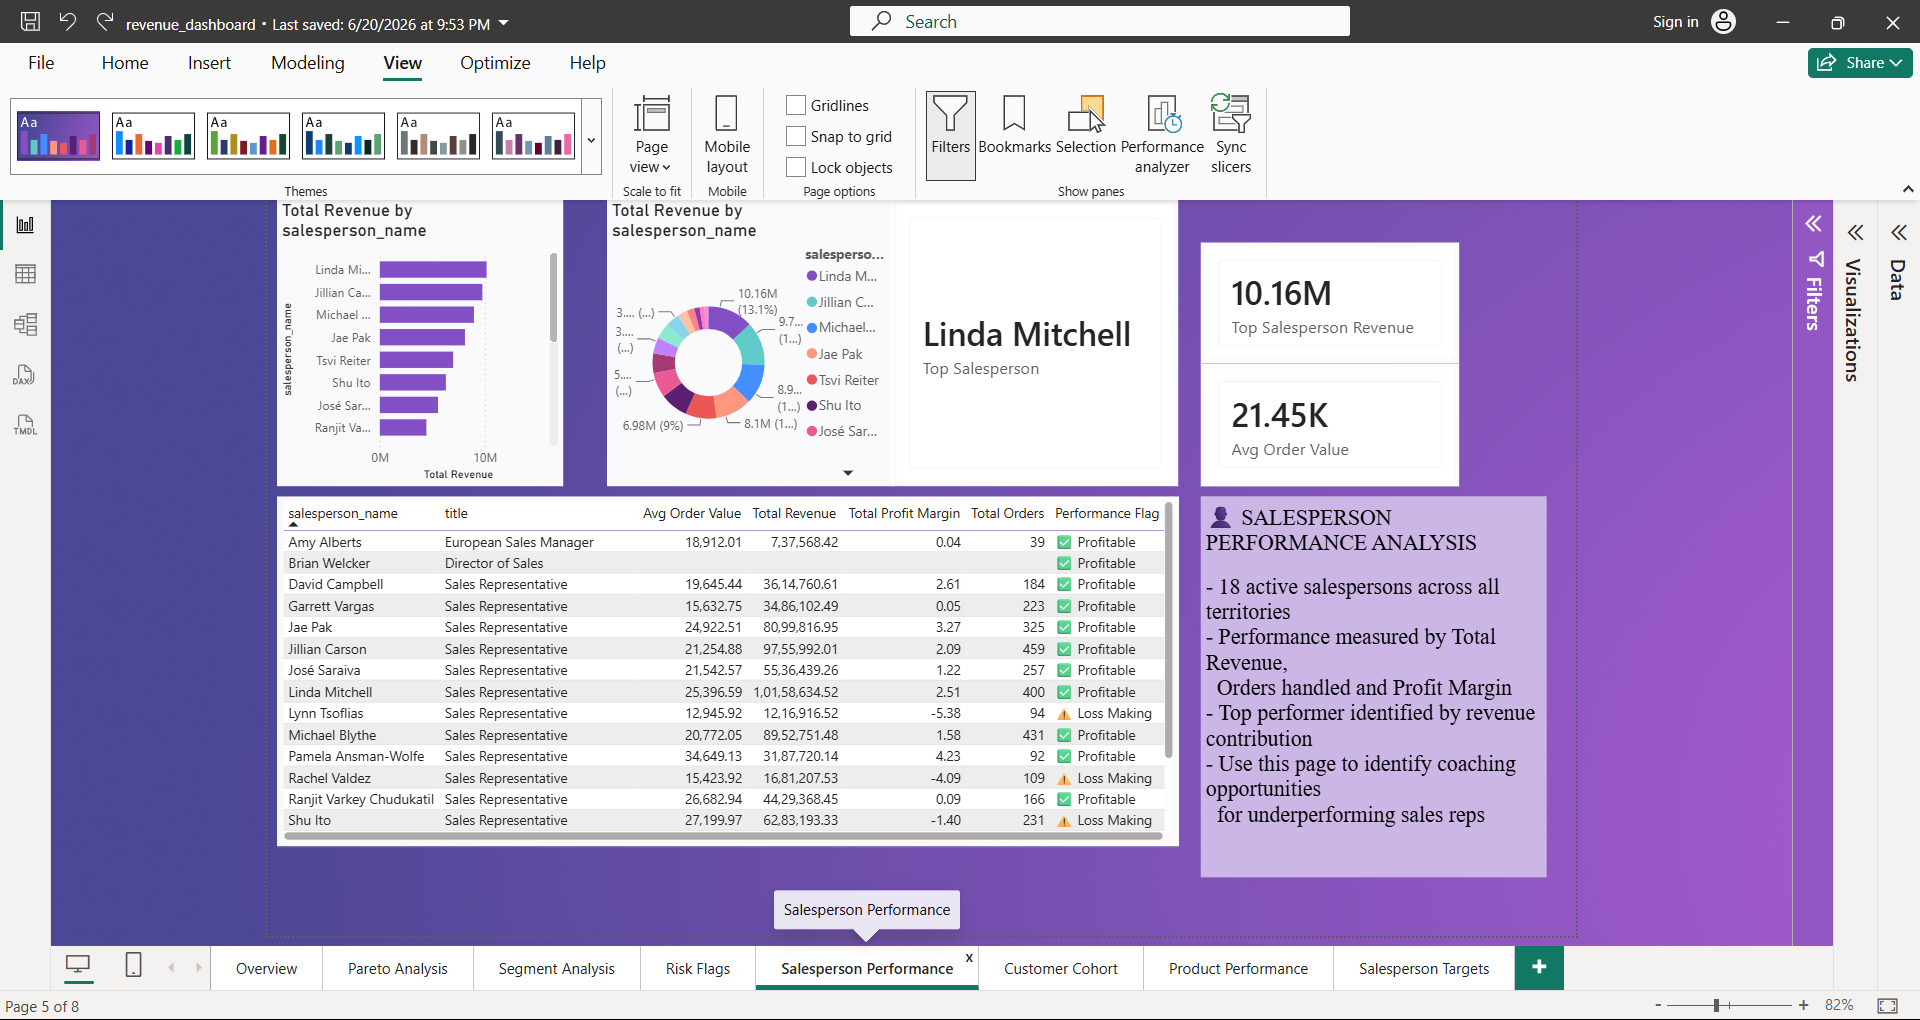

What the dashboard file says about the page in this screenshot:
{"tool":"powerbi","page":{"name":"Salesperson Performance","canvas":[1280,720],"ordinal":4},"visuals":[{"type":"clusteredBarChart","fields":{"Category":["salespersons.salesperson_name"],"Y":["customers.Total Revenue"]},"box":[10,0,280,280],"z":0},{"type":"tableEx","fields":{"Values":["salespersons.salesperson_name","salespersons.title","Date Table.Avg Order Value","customers.Total Revenue","customers.Total Profit Margin","customers.Total Orders","customers.Performance Flag"]},"box":[10,290,882,342],"z":1000},{"type":"donutChart","fields":{"Category":["salespersons.salesperson_name"],"Y":["customers.Total Revenue"]},"box":[332,0,280,280],"z":2000},{"type":"cardVisual","fields":{"Data":["customers.Top Salesperson"]},"box":[612,0,280,280],"z":3000},{"type":"cardVisual","fields":{"Data":["customers.Top Salesperson Revenue"]},"box":[913.5,41.6,253.1,118.6],"z":4000},{"type":"cardVisual","fields":{"Data":["Date Table.Avg Order Value"]},"box":[913.5,160.2,253.1,119.8],"z":5000},{"type":"textbox","box":[913.5,289.8,338.7,373],"z":6000}]}

Visuals, with their boxes on the page's 1280x720 design canvas (x1, y1, x2, y2). These are canvas units, not pixel positions in the 1920x1020 screenshot, which may show the page scaled, cropped or inside an application window:
clusteredBarChart - salespersons.salesperson_name x customers.Total Revenue: {"left": 10, "top": 0, "right": 290, "bottom": 280}
tableEx - salespersons.salesperson_name x salespersons.title: {"left": 10, "top": 290, "right": 892, "bottom": 632}
donutChart - salespersons.salesperson_name x customers.Total Revenue: {"left": 332, "top": 0, "right": 612, "bottom": 280}
cardVisual - customers.Top Salesperson: {"left": 612, "top": 0, "right": 892, "bottom": 280}
cardVisual - customers.Top Salesperson Revenue: {"left": 914, "top": 42, "right": 1167, "bottom": 160}
cardVisual - Date Table.Avg Order Value: {"left": 914, "top": 160, "right": 1167, "bottom": 280}
textbox: {"left": 914, "top": 290, "right": 1252, "bottom": 663}
